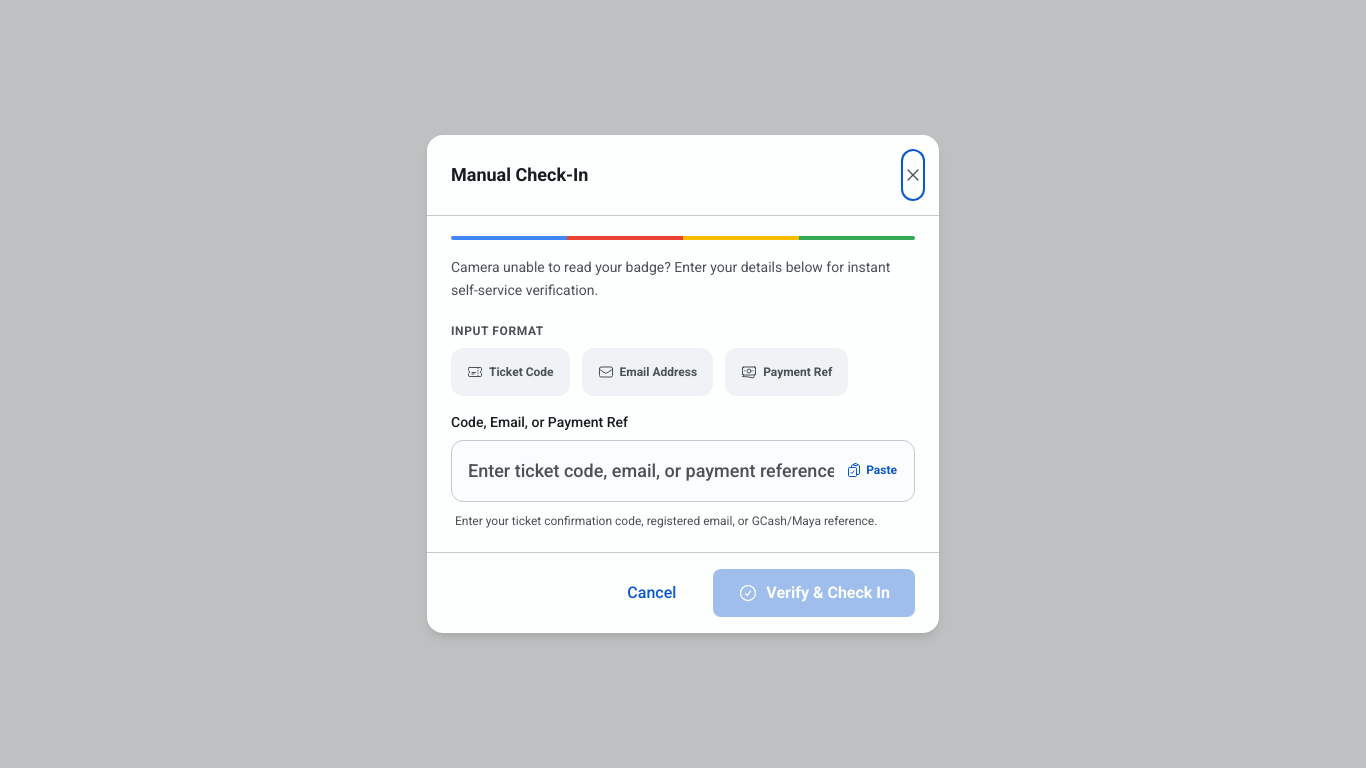
Test: KioskManualCodeModal Component (DOM) › displays thrown exception message in the alert banner
In the field: (683, 471) [451,440,915,502], type "REG-ERR"
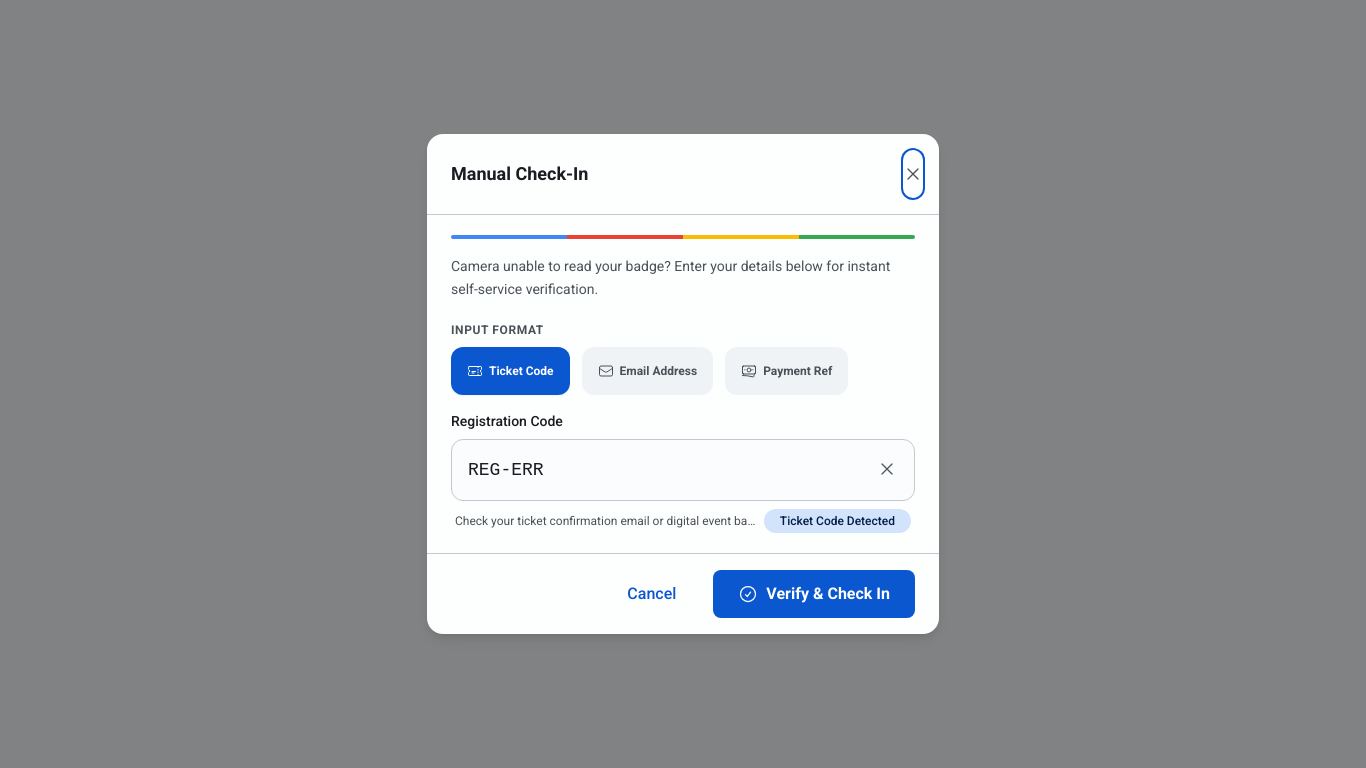
Click the button "Verify & Check In": (814, 594) [713,570,915,618]
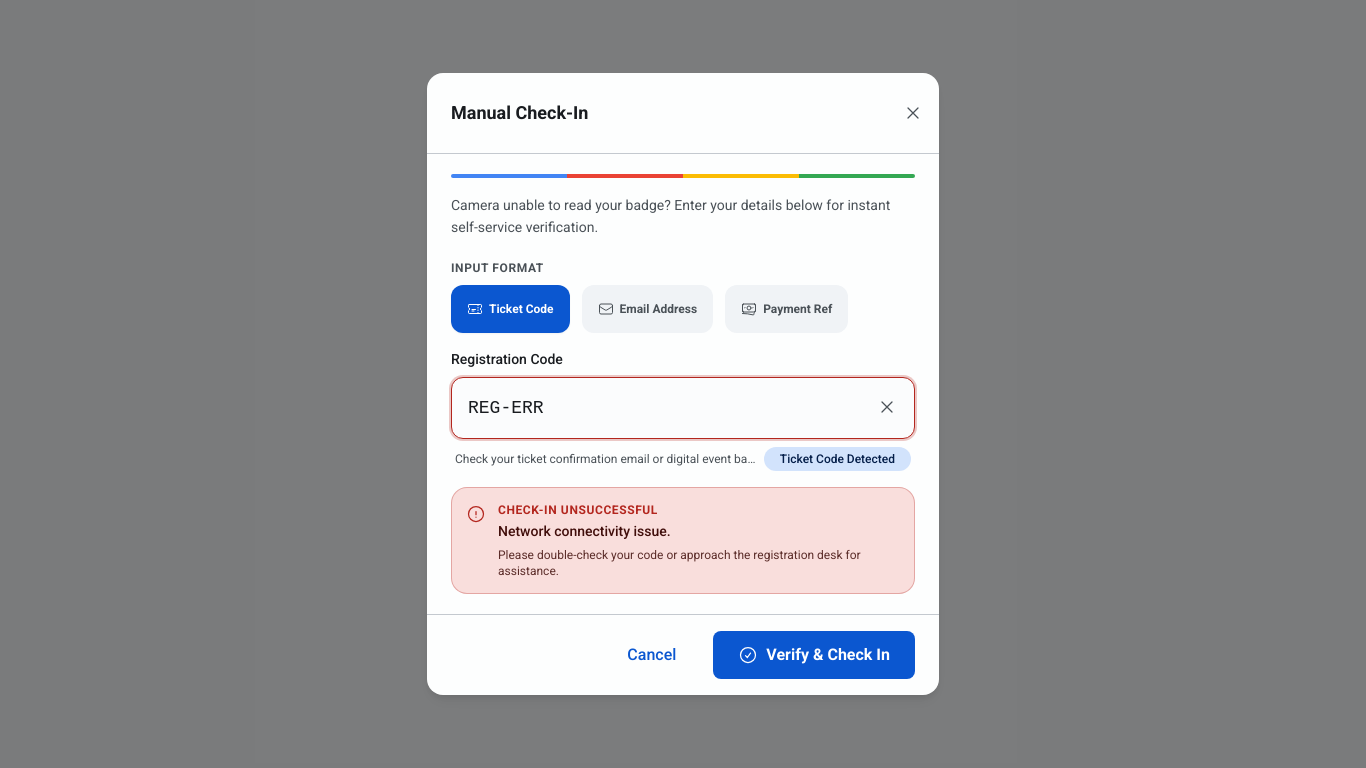
Now the message is shown, box [451,487,915,594]
Now the text "Network connectivity issue." is shown, box [498,523,671,539]
